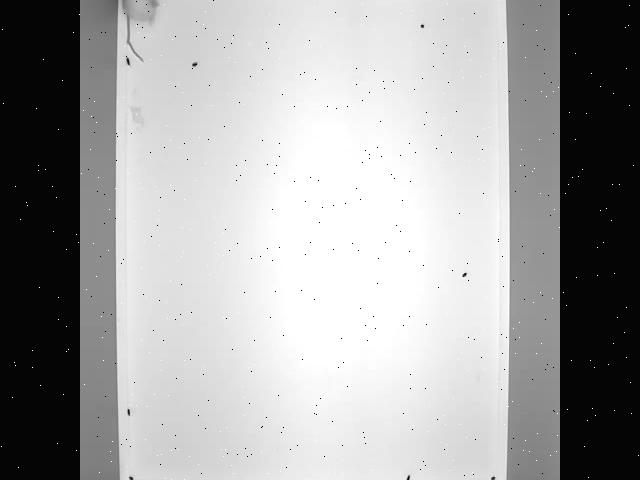Tikus: (119, 0, 163, 70)
